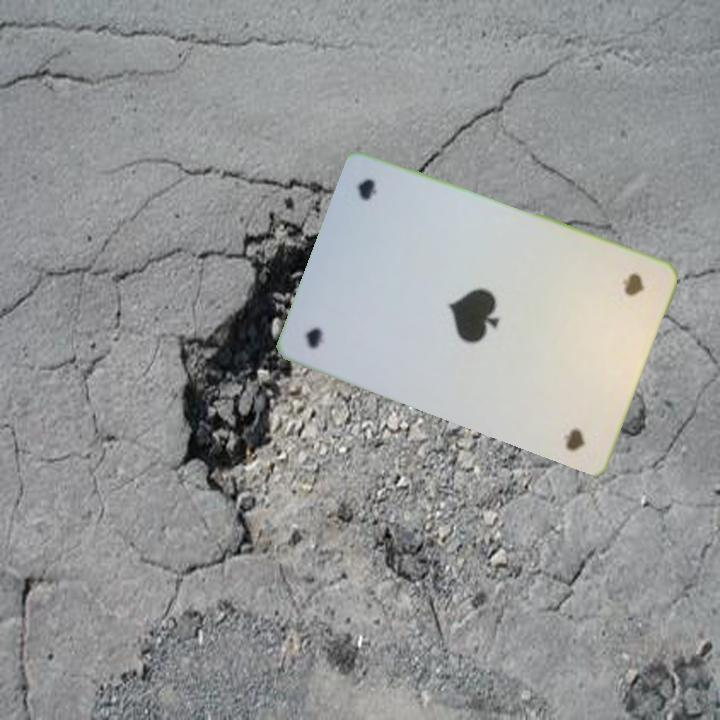s_a.png: (294, 253, 408, 375), (548, 248, 662, 370)
